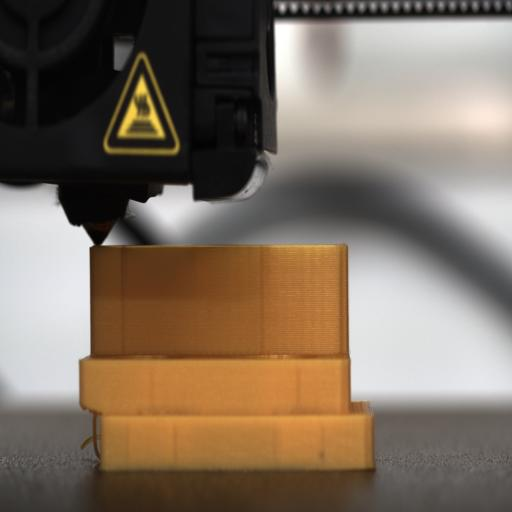layer_shift: (79, 392, 374, 426)
